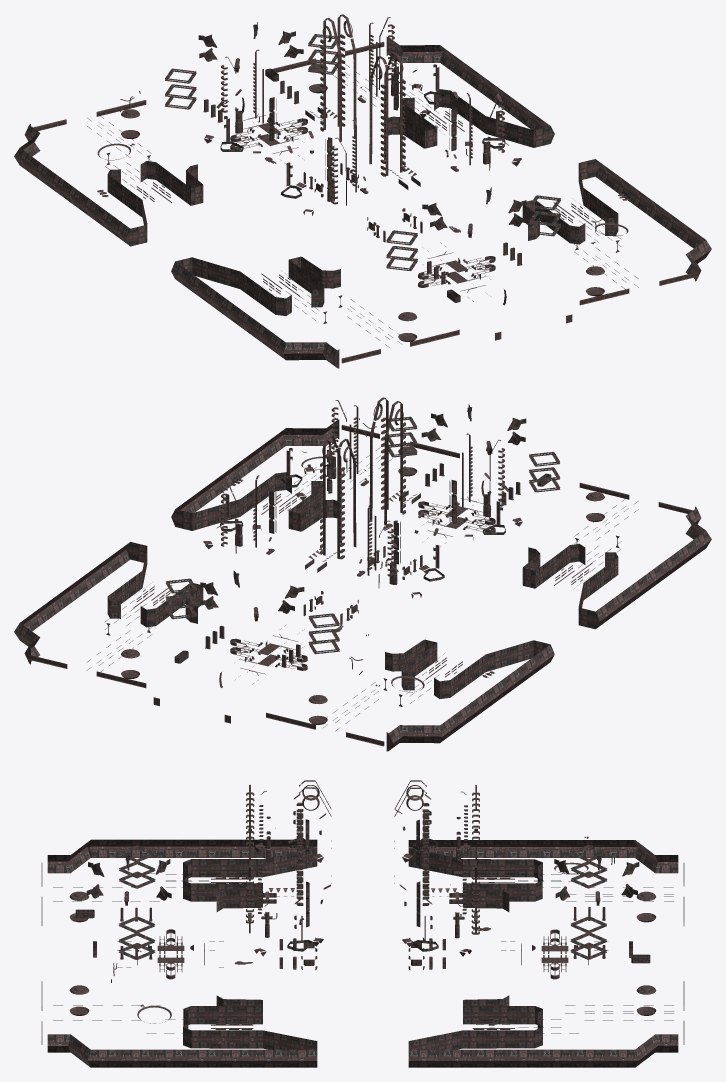
3 renders of one model, top to bottom at view 1: azimuth 30°, elevation 25°; view 2: azimuth 150°, elevation 25°; view 3: azimuth 270°, elevation 25°, orthographic. The views are drawn at different scales.
Parts seen in each view (by area): view 1: _gltfNode_9.001; view 2: _gltfNode_9.001; view 3: _gltfNode_9.001.
Part boxes in pixels (x1,y1,x2,y2): _gltfNode_9.001: (14,14,711,368); _gltfNode_9.001: (14,397,711,751); _gltfNode_9.001: (41,780,684,1067).
Size of the model in its own units: 9 by 3.57 by 12.4.
1 material, 1 textured.
